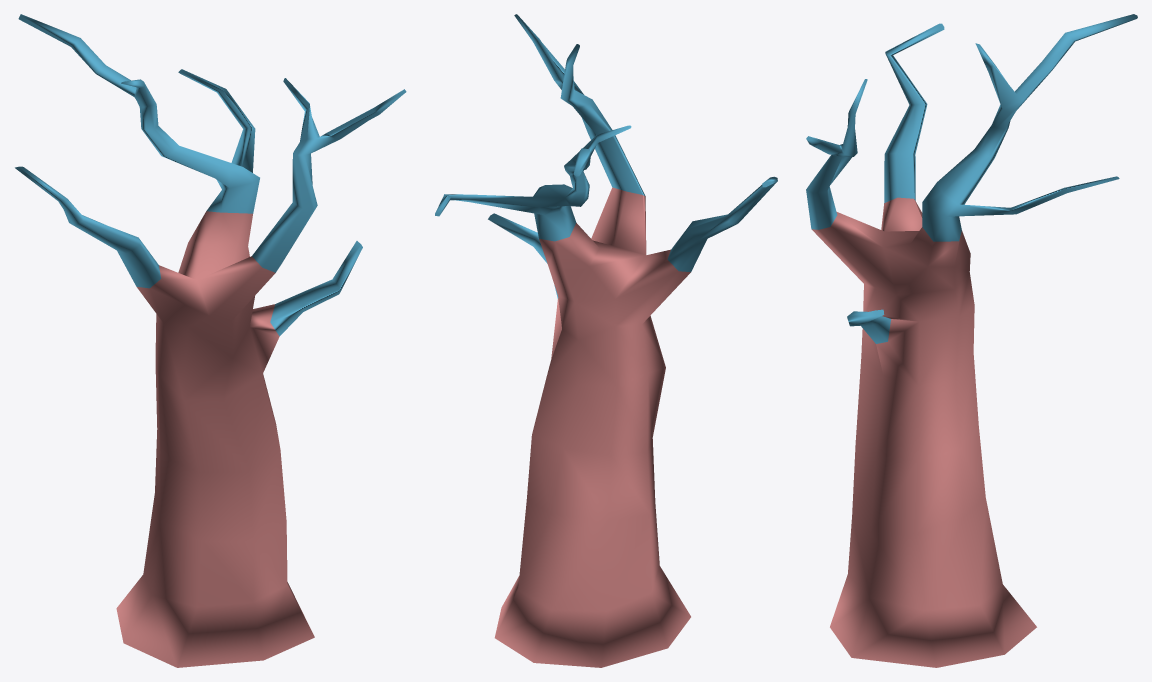
The model's file is obj_treeAThicc.fbx.
3 renders of one model, left to right at view 1: azimuth 30°, elevation 25°; view 2: azimuth 150°, elevation 25°; view 3: azimuth 270°, elevation 25°, orthographic. The views are drawn at different scales.
Visible parts, largest first — view 1: obj_treeAThicc; view 2: obj_treeAThicc; view 3: obj_treeAThicc.
Part boxes in pixels (left/top/right/bottom): obj_treeAThicc: left=15, top=14, right=406, bottom=667; obj_treeAThicc: left=435, top=14, right=777, bottom=667; obj_treeAThicc: left=806, top=14, right=1137, bottom=667.
Bounding box in the file's own units: 209 × 345 × 181.
